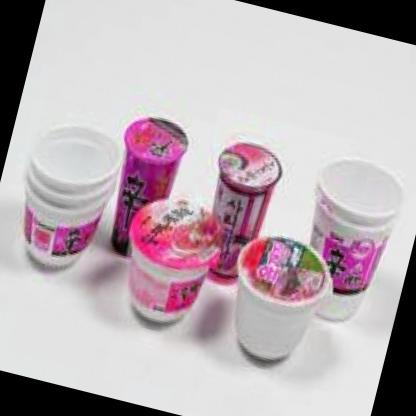Ramen: (216, 226, 344, 374), (112, 194, 230, 336), (96, 113, 192, 267), (196, 136, 292, 290)
